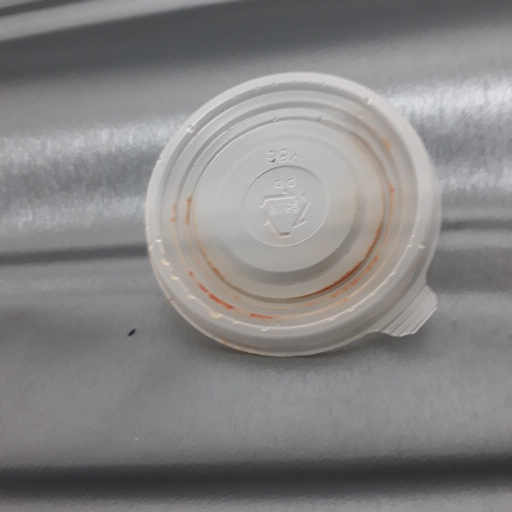Plastic_5: (143, 69, 450, 365)
